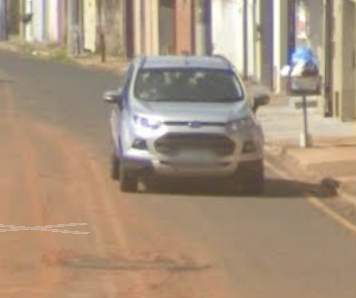car: (94, 45, 275, 199)
